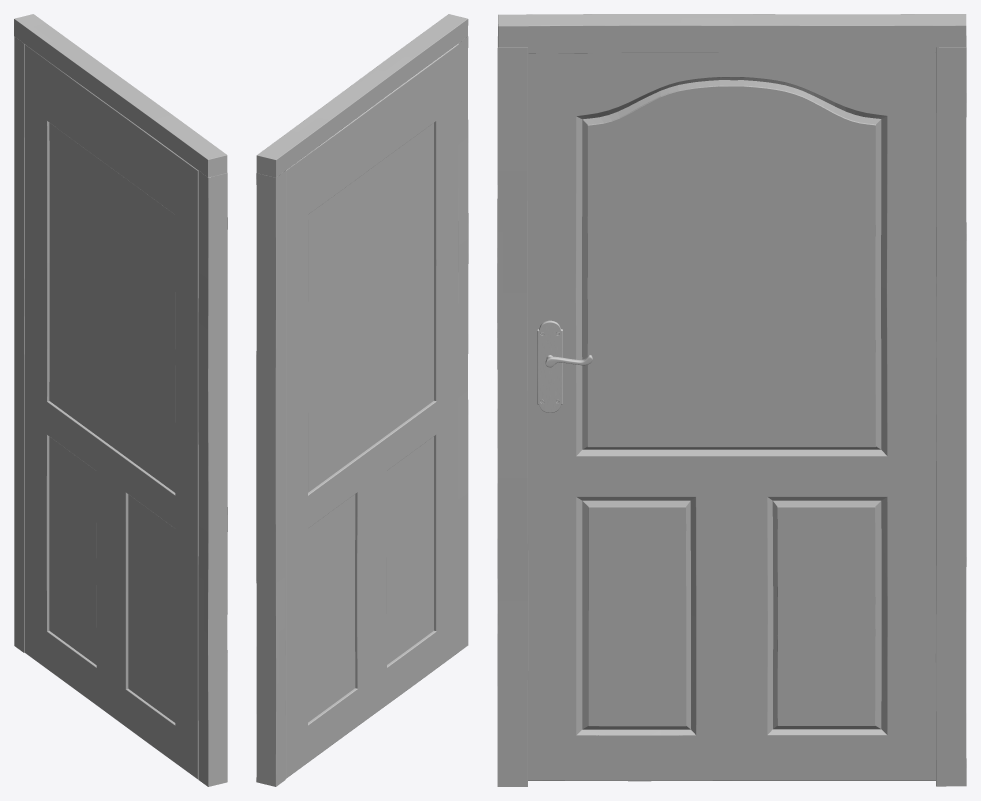
3 renders of one model, left to right at view 1: azimuth 30°, elevation 25°; view 2: azimuth 150°, elevation 25°; view 3: azimuth 270°, elevation 25°, orthographic. The views are drawn at different scales.
Visible parts, largest first — view 1: door, wooden_door_bar; view 2: door, wooden_door_bar; view 3: door, wooden_door_bar, door_handle.
Boxes of the visible parts, x1=… form: door: x1=24, y1=44, x2=198, y2=779; wooden_door_bar: x1=14, y1=14, x2=227, y2=786; door: x1=285, y1=43, x2=458, y2=778; wooden_door_bar: x1=256, y1=14, x2=468, y2=786; door: x1=528, y1=47, x2=936, y2=781; wooden_door_bar: x1=497, y1=14, x2=966, y2=786; door_handle: x1=537, y1=320, x2=592, y2=413.
Bounding box in the file's own units: 0.2166 × 5.74 × 3.21.
